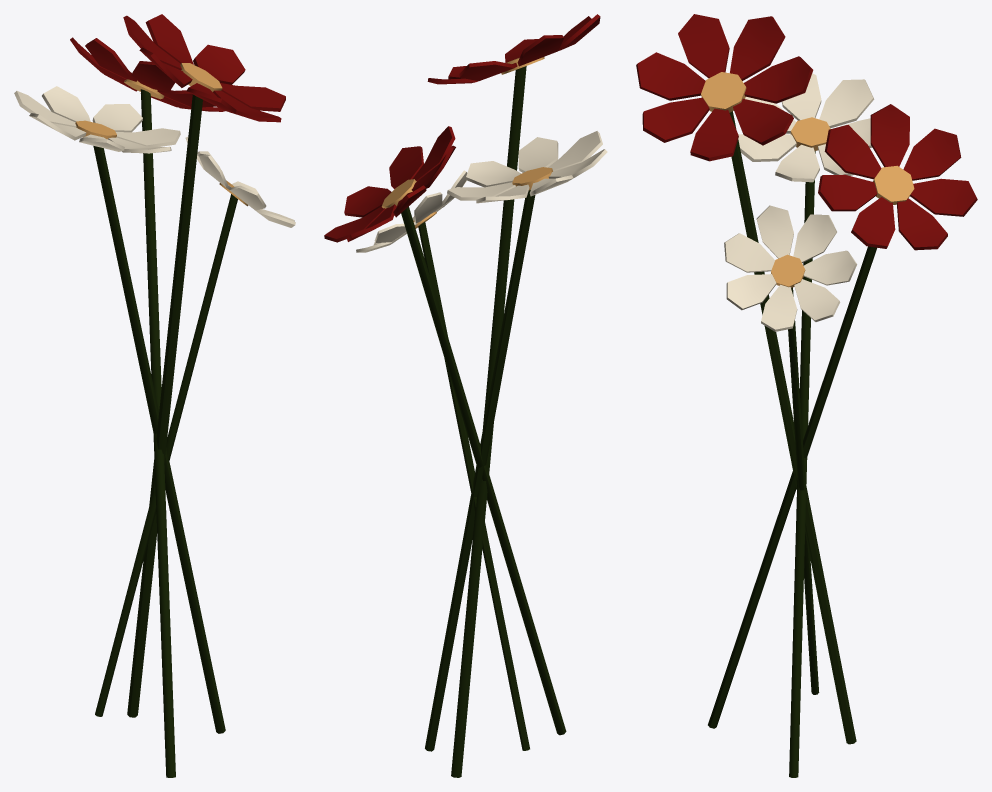
The model's file is Flowers_fresh.fbx.
3 renders of one model, left to right at view 1: azimuth 30°, elevation 25°; view 2: azimuth 150°, elevation 25°; view 3: azimuth 270°, elevation 25°, orthographic. The views are drawn at different scales.
Visible parts, largest first — view 1: Flowers; view 2: Flowers; view 3: Flowers.
Boxes of the visible parts, <box> form: Flowers: <box>14,14,295,777</box>; Flowers: <box>324,14,607,777</box>; Flowers: <box>636,14,977,777</box>.
Bounding box in the file's own units: 0.1434 × 0.4156 × 0.1807.
